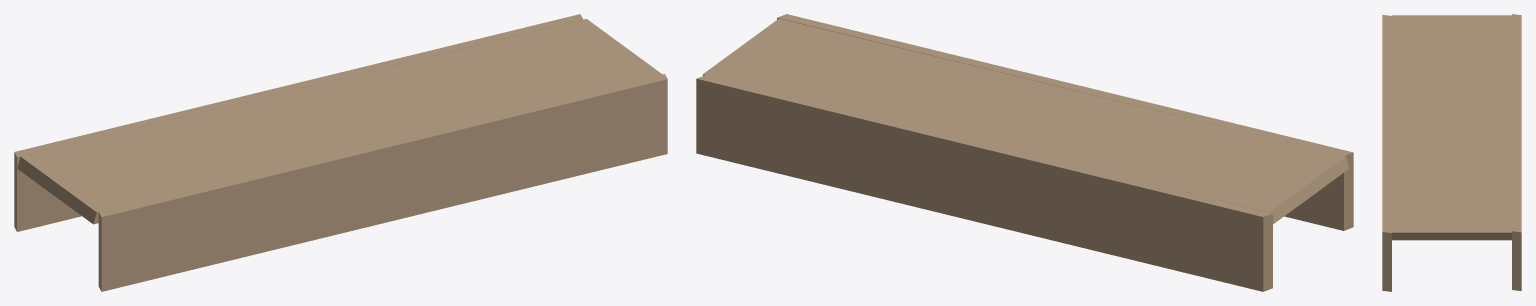
Rendered from pistol_schacht.glb.
3 views of the same model, side by side, from view 1: azimuth 30°, elevation 25°; view 2: azimuth 150°, elevation 25°; view 3: azimuth 270°, elevation 25° (orthographic). The views are drawn at different scales.
Parts seen in each view (by area): view 1: Mesh_Mesh_head_geo.001_lambert2SG.001; view 2: Mesh_Mesh_head_geo.001_lambert2SG.001; view 3: Mesh_Mesh_head_geo.001_lambert2SG.001.
Part boxes in pixels (left/top/right/bottom): Mesh_Mesh_head_geo.001_lambert2SG.001: left=14, top=14, right=667, bottom=291; Mesh_Mesh_head_geo.001_lambert2SG.001: left=696, top=14, right=1353, bottom=291; Mesh_Mesh_head_geo.001_lambert2SG.001: left=1382, top=14, right=1521, bottom=291.
Bounding box in the file's own units: 0.052 × 0.0065 × 0.014.
